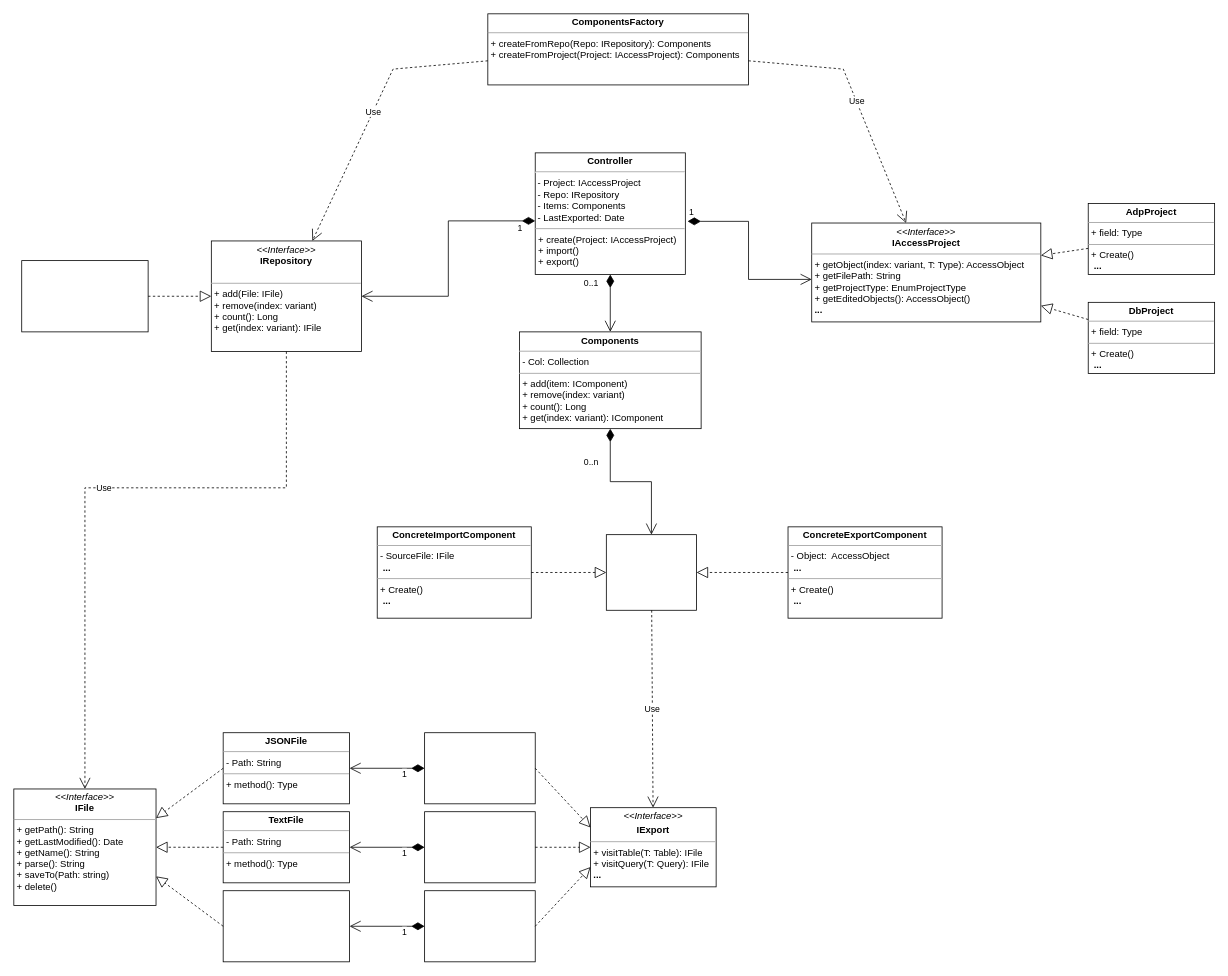
Image size: 1228x976. Some labels were removed from this diagram. The box of each missing label's shape, as (x1, y1, x2, y2) in pixels:
<<Interface>> IComponent + execute() ...: (606, 534, 697, 610)
JSONExport - File: JSONFile ...: (424, 732, 535, 804)
LocalDirectory - Path: String + Create(Path: String) ...: (21, 260, 148, 332)
TxtExport - File: XMLFile ...: (424, 811, 535, 883)
XMLExport - File: XMLFile ...: (424, 890, 535, 962)
XMLFile - Path: String + method(): Type: (222, 890, 350, 962)
